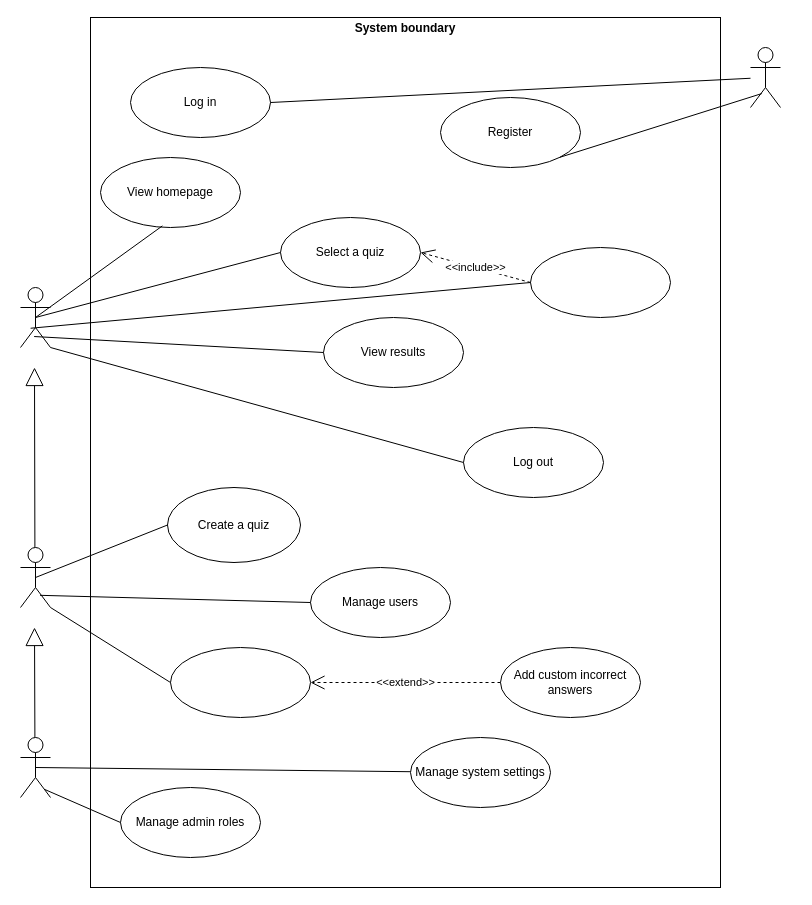
Image size: 812x905. Some labels were removed from this diagram. Here are the shapes that lost their labels. From the top down, the centre of each, then its label:
At [765,77]: "Web visitor".
At [600,282]: "Answer questions".
At [35,317]: "User".
At [35,577]: "Admin".
At [240,682]: "Manage questions".
At [35,767]: "root".
